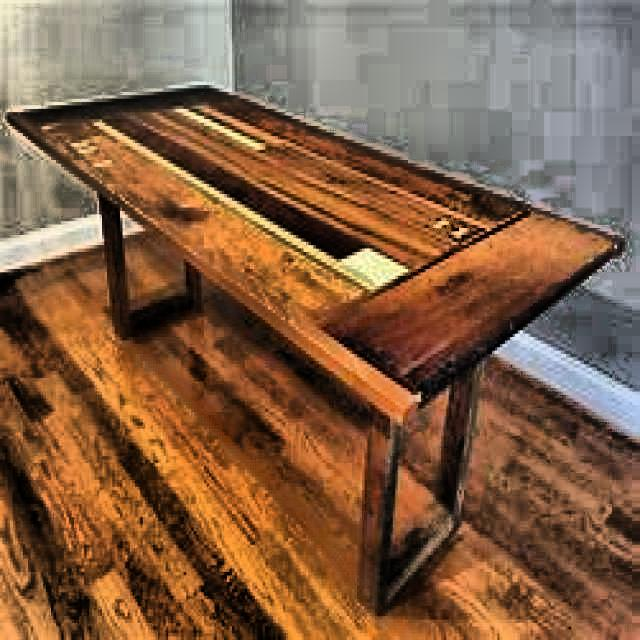mesa: (4, 70, 627, 598)
